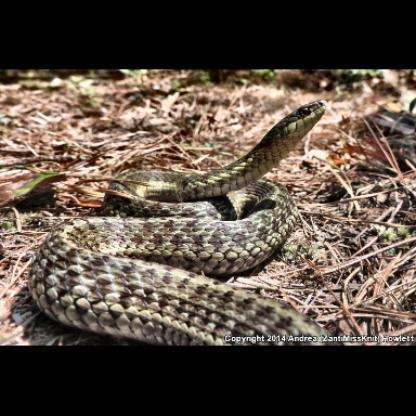Snake: (15, 88, 339, 343)
